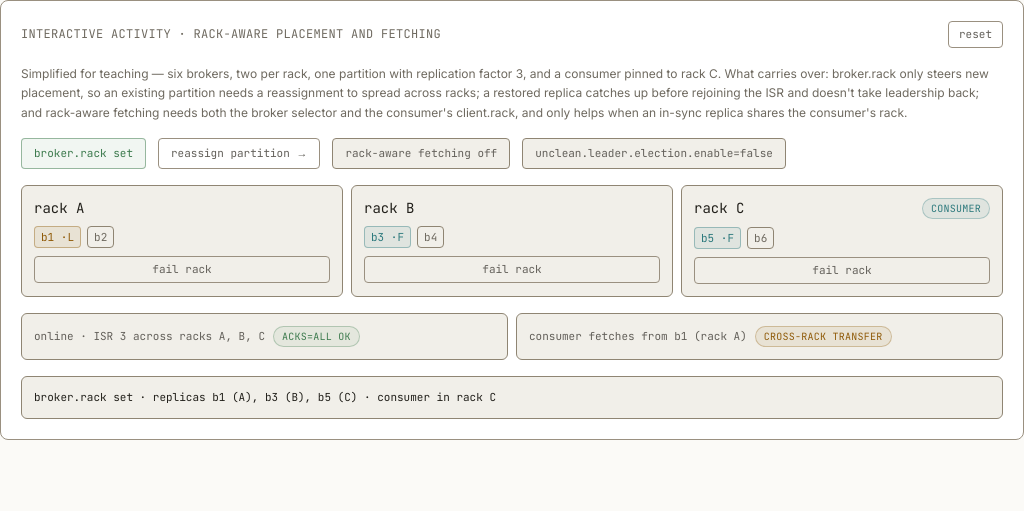
Test: RackPlacementDemo › changing broker.rack does not move an existing partition — a reassignment does
Click the button "broker.rack set".
click(84, 153)  # box [21,138,146,168]
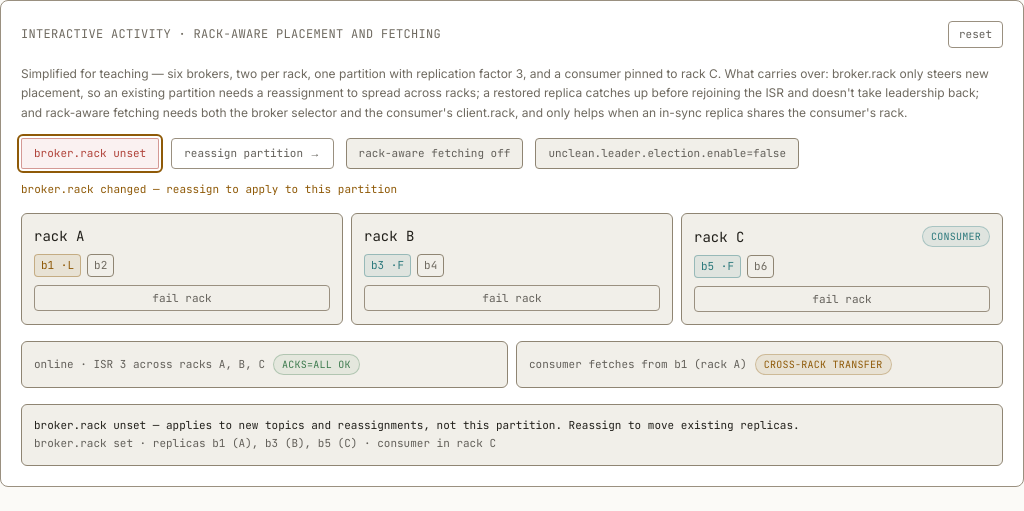
Check: the text with test id "partition-status" shows "ISR 3 across racks A, B, C", box [34,357,265,371]
Check: the text "broker.rack changed — reassign to apply to this partition" is shown, box [21,180,397,197]
Click the button "reassign partition →".
click(252, 153)  # box [171,138,334,168]
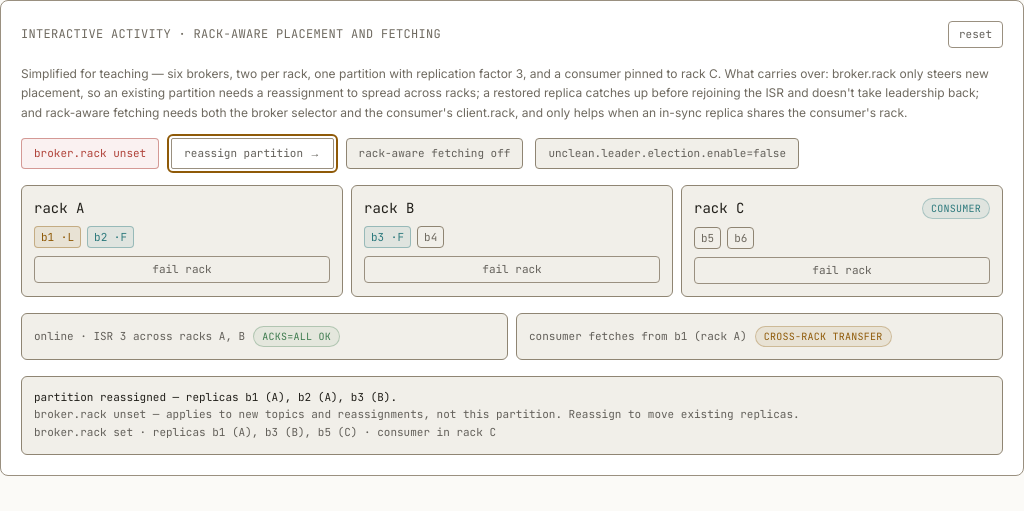
Check: the text with test id "config-drift" is gone
Click the button "fail rack" below "·L".
click(182, 269)  # box [34,256,330,282]
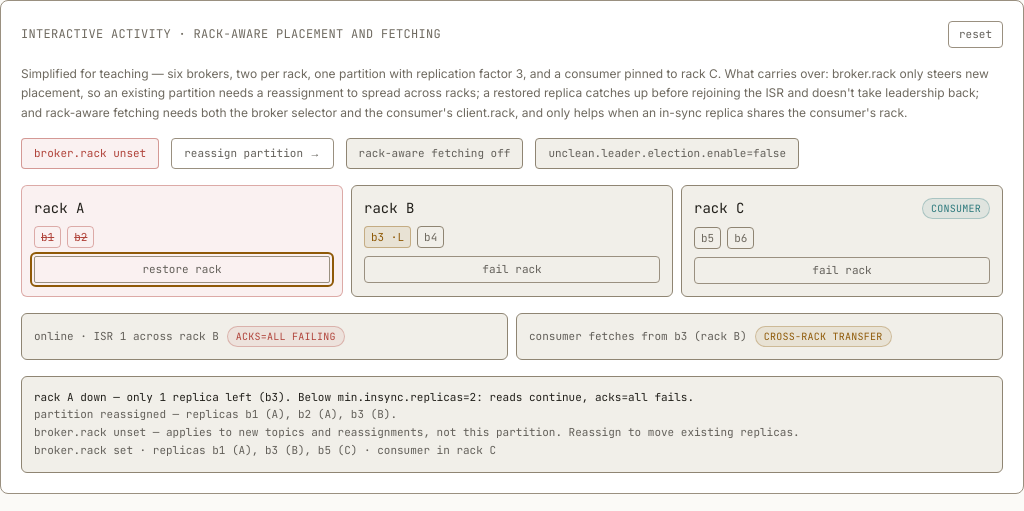
Check: the text with test id "partition-status" shows "ISR 1", box [34,329,219,343]
Check: the text "acks=all failing" is shown, box [227,326,345,346]
